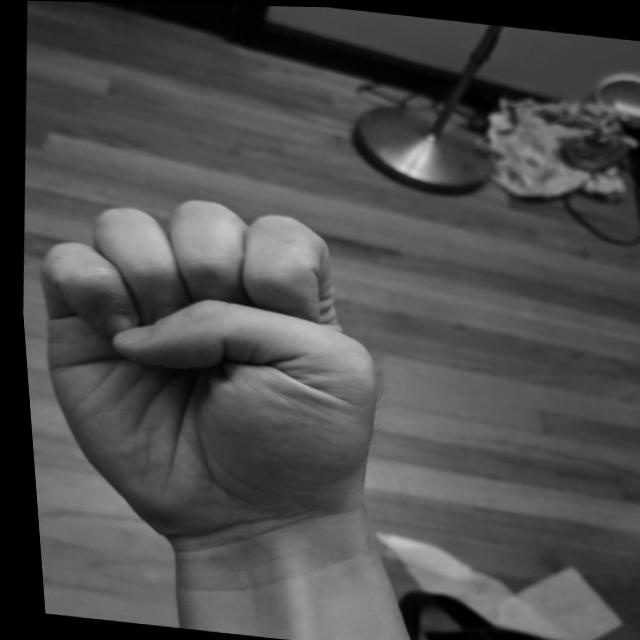E: (10, 175, 404, 576)
